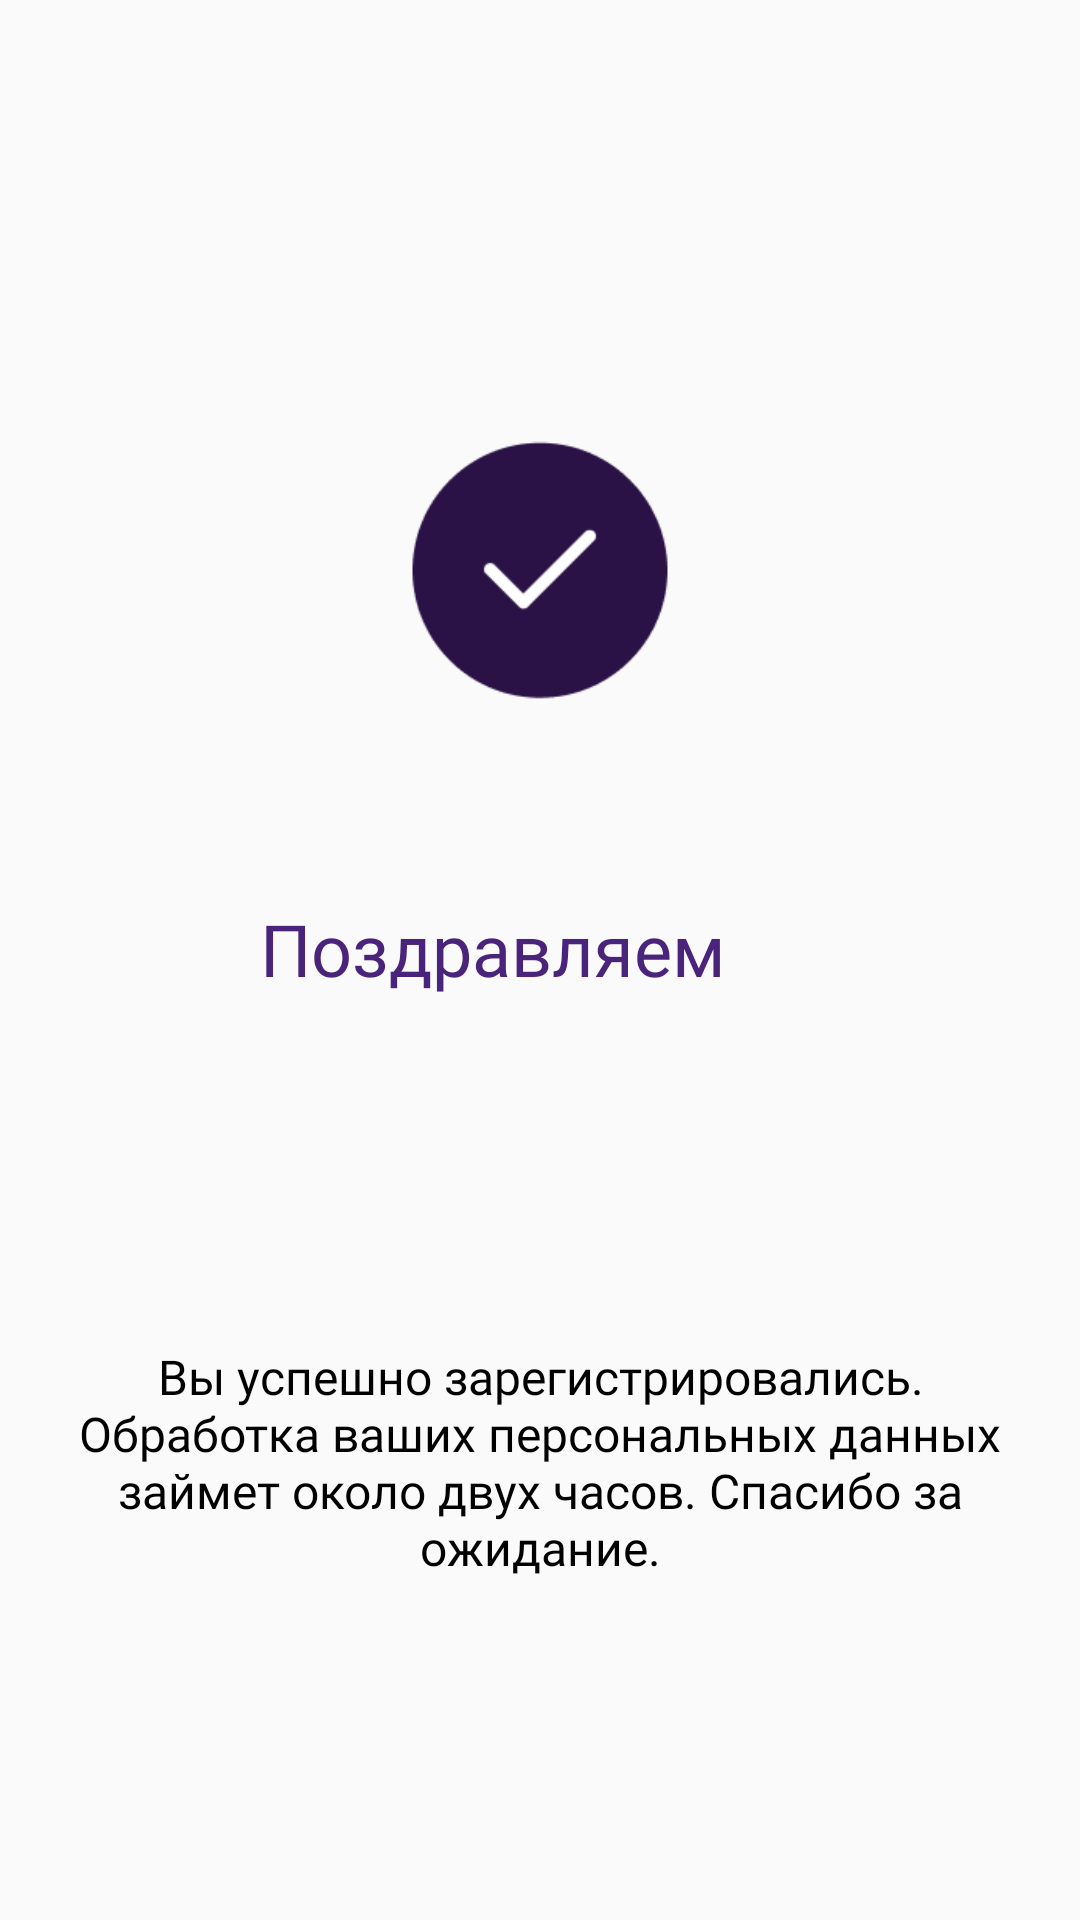

Locate icon controls on the screen. Image size 1080w x 1920h, boxes as {"left": x1, "top": y1, "right": x2, "bottom": y2}.
Поздравляем: {"left": 412, "top": 442, "right": 668, "bottom": 699}
